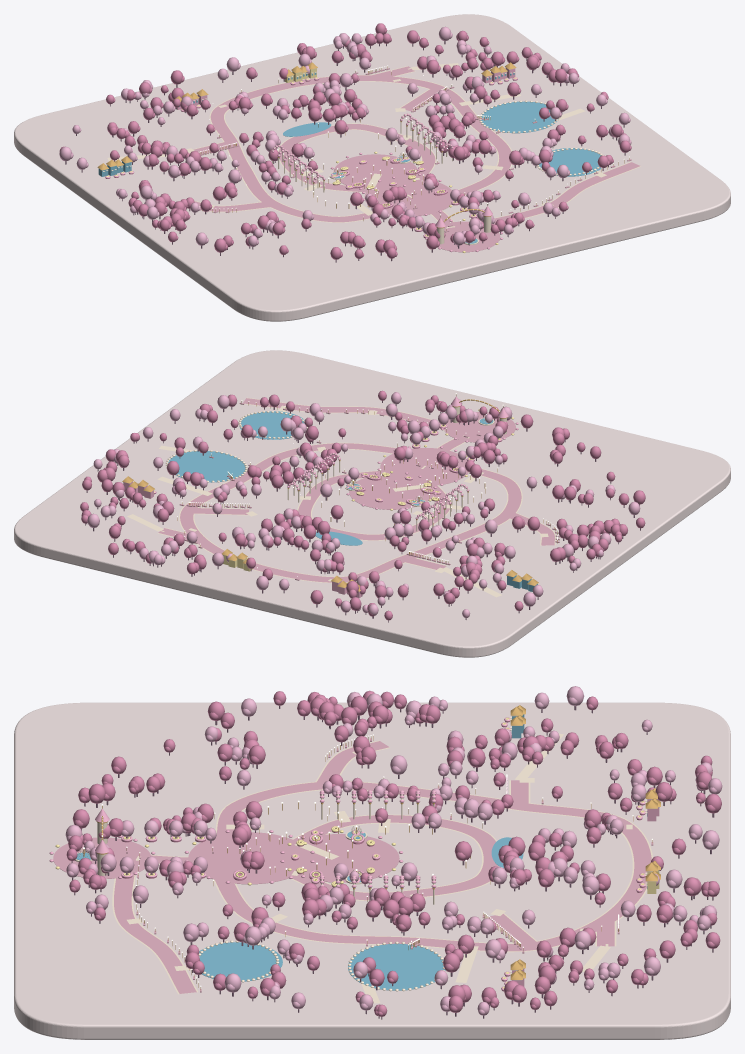
Rendered from parkland.glb.
3 renders of one model, top to bottom at view 1: azimuth 30°, elevation 25°; view 2: azimuth 150°, elevation 25°; view 3: azimuth 270°, elevation 25°, orthographic. The views are drawn at different scales.
Size of the model in its own units: 62.4 by 4.85 by 58.4.
